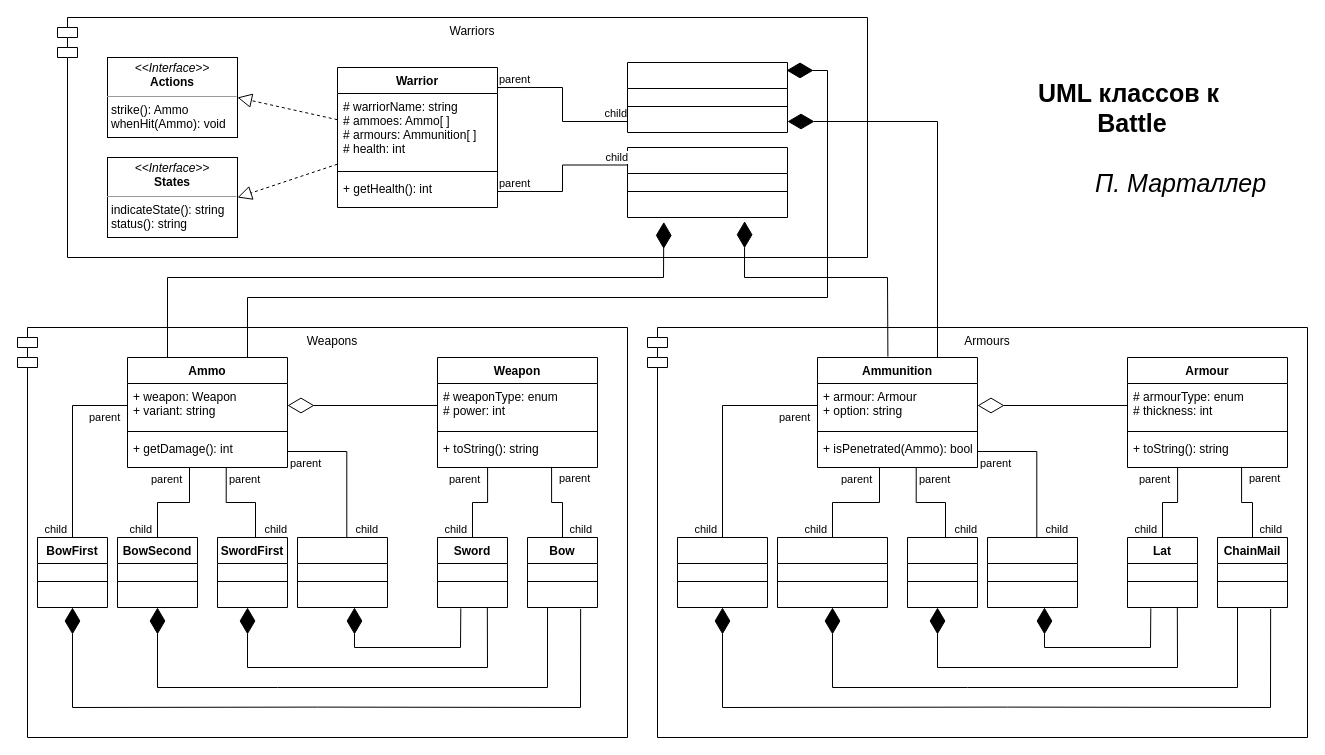
Image size: 1325x755. Some labels were removed from this diagram. Here are the shapes that lost their labels. From the top down, the centre of each, then its label:
At (707,97): "Bowman".
At (707,182): "Knight".
At (342,572): "SwordSecond".
At (722,572): "ChainMailFirst".
At (832,572): "ChainMailSecond".
At (942,572): "LatFirst".
At (1032,572): "LatSecond".
